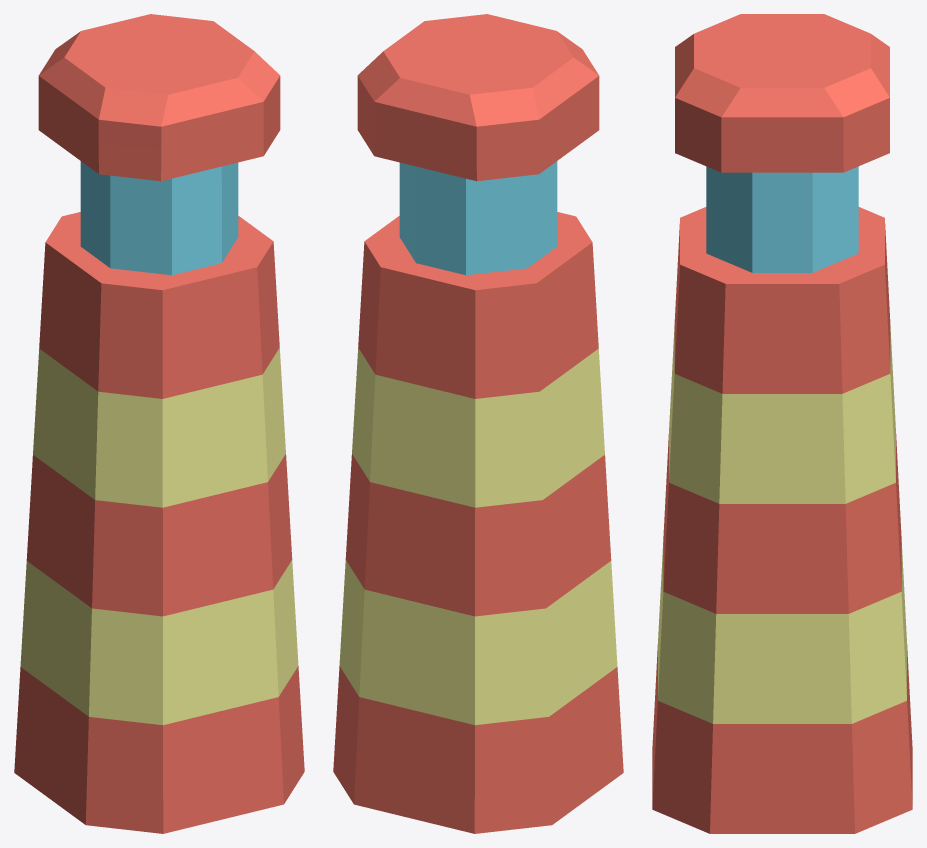
File: LightHouse.fbx
3 views of the same model, side by side, from view 1: azimuth 30°, elevation 25°; view 2: azimuth 150°, elevation 25°; view 3: azimuth 270°, elevation 25° (orthographic).
Visible parts, largest first — view 1: Cube.004; view 2: Cube.004; view 3: Cube.004.
Part boxes in pixels (x1,y1,x2,y2): Cube.004: [14, 14, 304, 833]; Cube.004: [333, 14, 623, 833]; Cube.004: [652, 14, 912, 833].
Size of the model in its own units: 1400 by 4386 by 1420.
